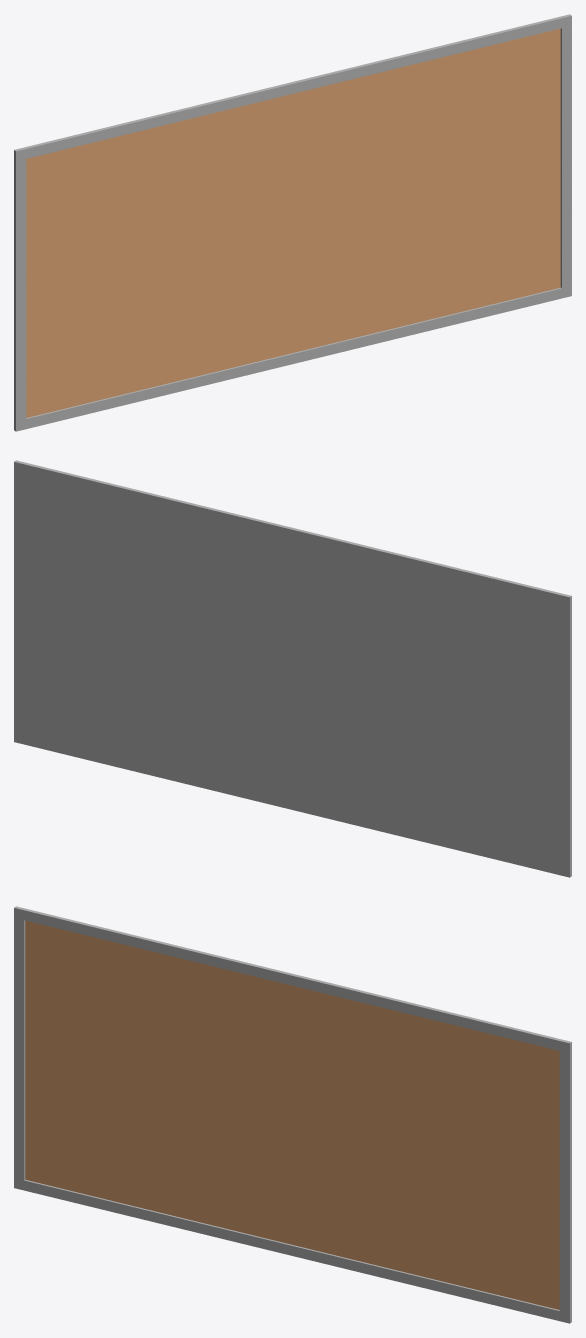
File: corkBoard_New.fbx
3 views of the same model, one above another, from view 1: azimuth 30°, elevation 25°; view 2: azimuth 150°, elevation 25°; view 3: azimuth 330°, elevation 25° (orthographic).
Visible parts, largest first — view 1: boardFace, boardEdge; view 2: boardBack, boardEdge; view 3: boardFace, boardEdge.
Part boxes in pixels (x1,y1,x2,y2): boardFace: [26, 28, 560, 417]; boardEdge: [14, 14, 571, 431]; boardBack: [24, 474, 559, 865]; boardEdge: [14, 460, 571, 877]; boardFace: [25, 920, 559, 1309]; boardEdge: [14, 906, 571, 1323].
Bounding box in the file's own units: 3.83 × 1.85 × 0.0253.
